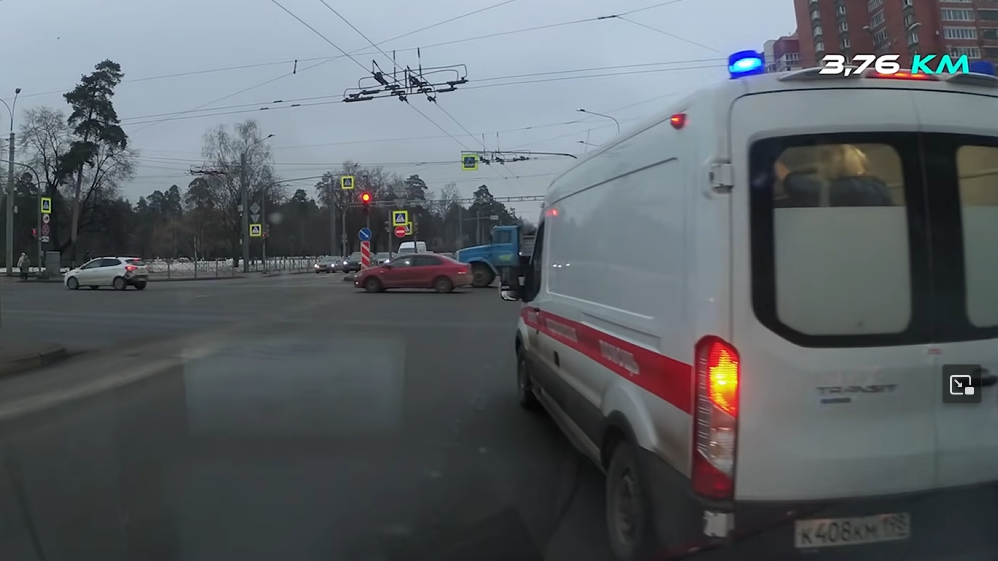ambulance: (517, 71, 995, 559)
non emergency car: (454, 220, 538, 292), (353, 249, 472, 295), (65, 250, 150, 292), (311, 254, 339, 272), (341, 249, 363, 271)
